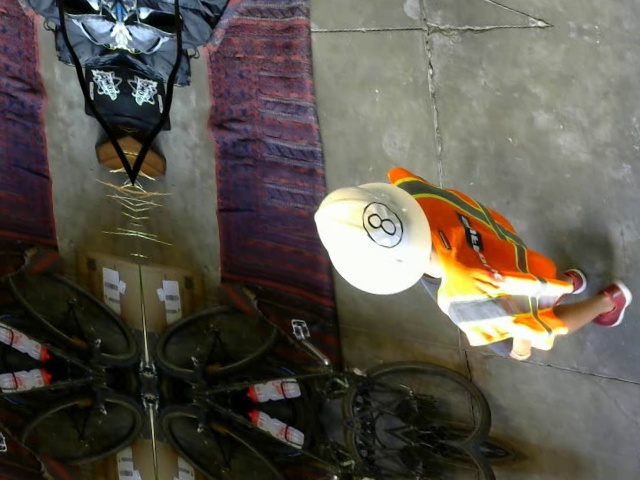eight: (359, 198, 404, 251)
